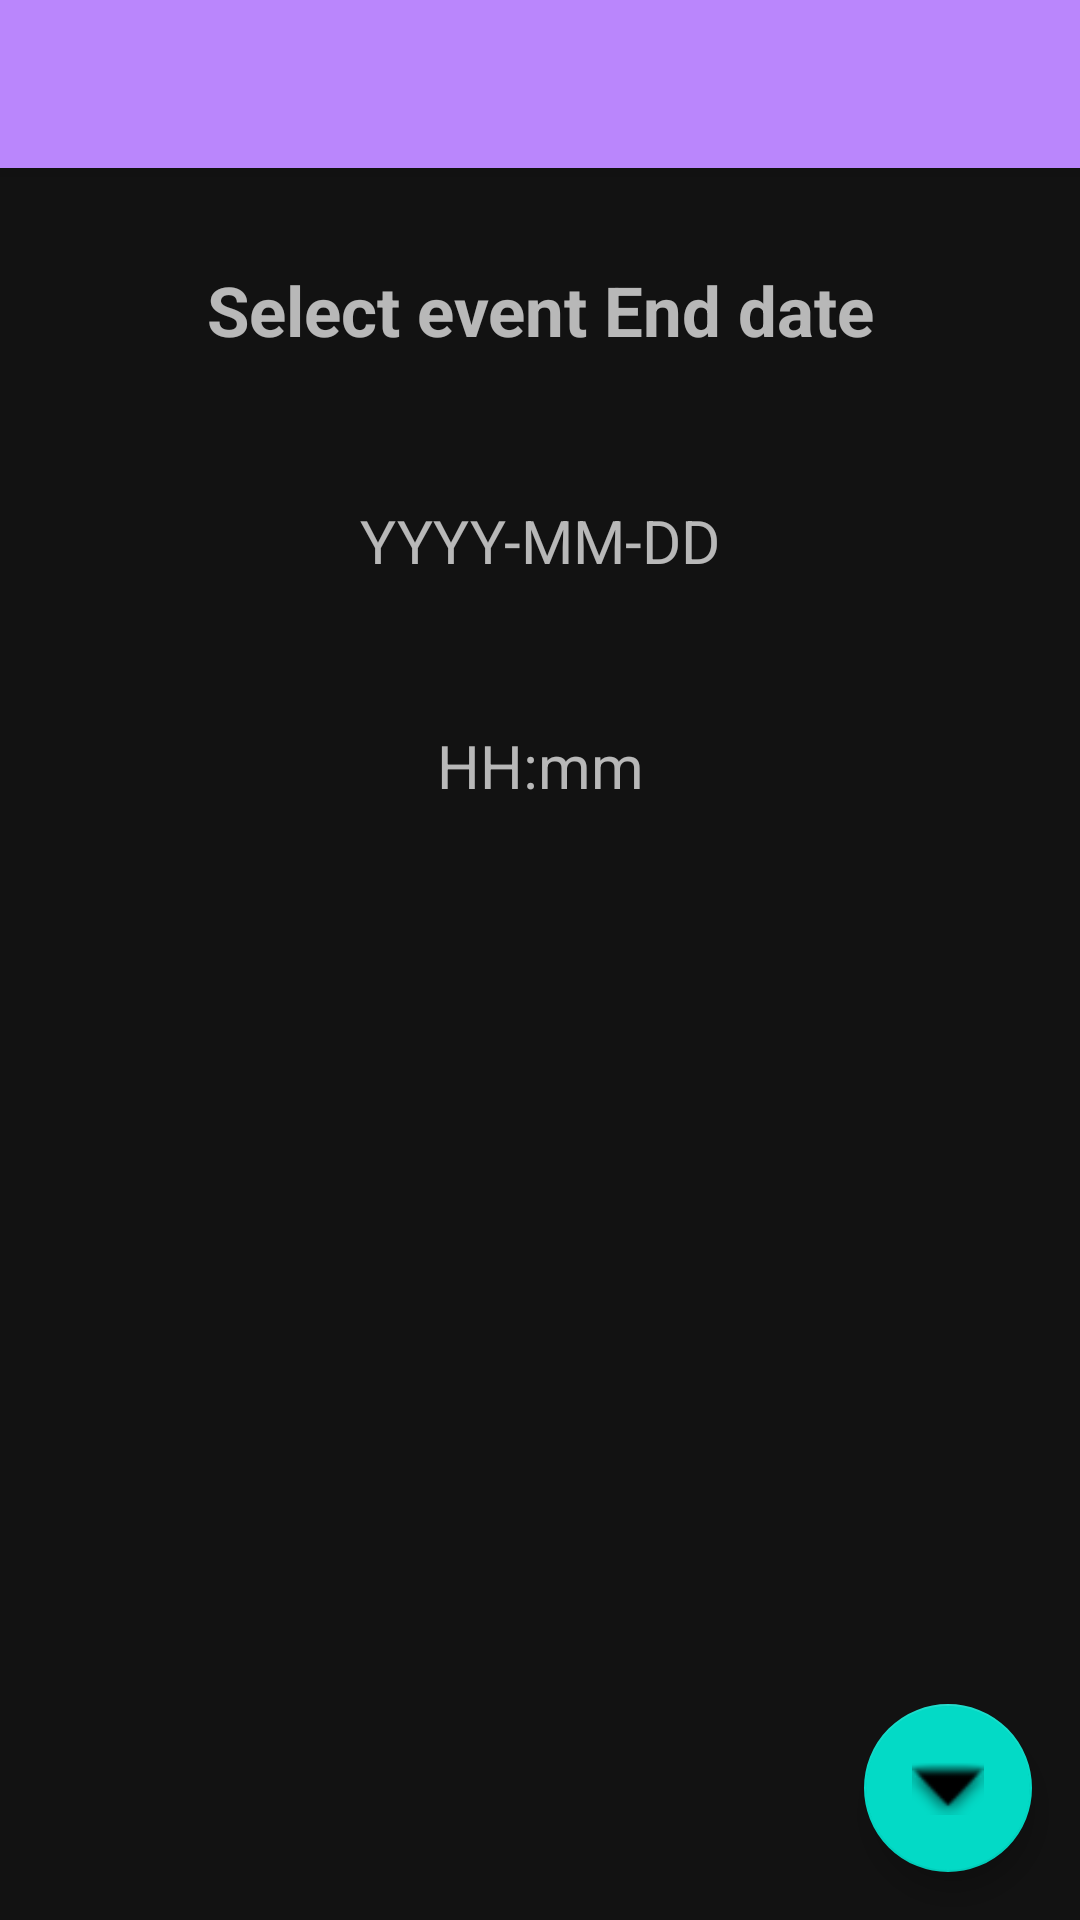

Icons on this 1080×1920 Android screen, each with the point to tap as [x,y]:
arrow down float: [948,1788]
